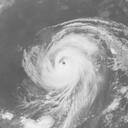cyclone: (23, 21, 100, 100)
